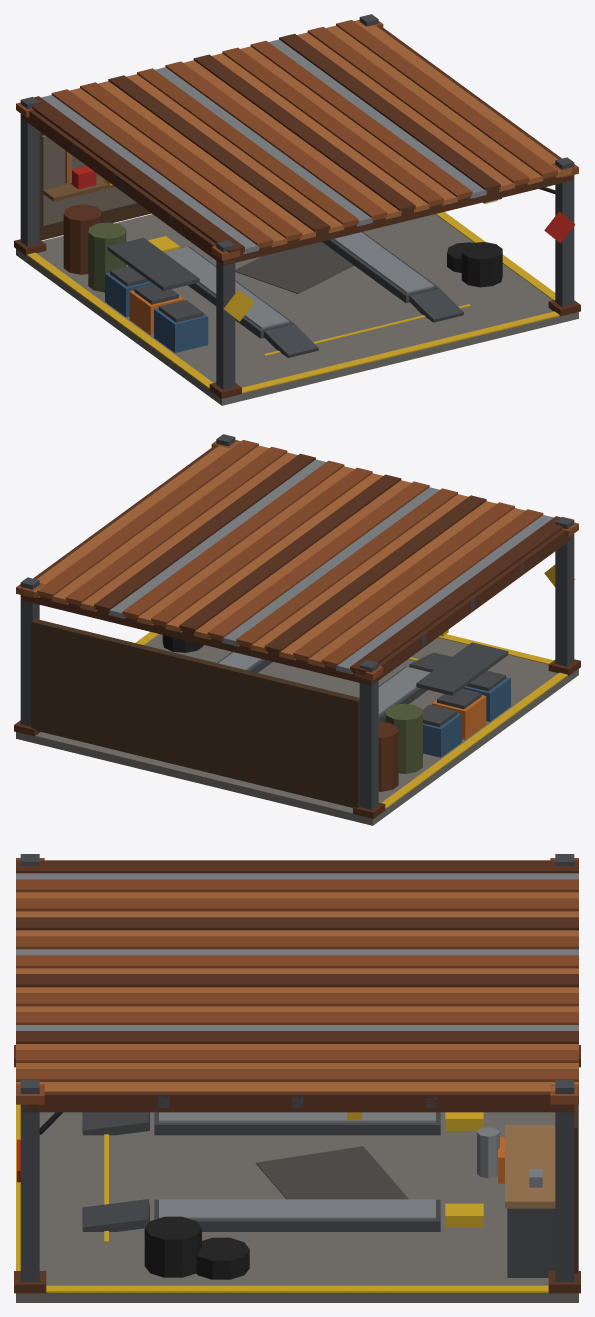
Rendered from piece_garage_bay.fbx.
3 views of the same model, one above another, from view 1: azimuth 30°, elevation 25°; view 2: azimuth 150°, elevation 25°; view 3: azimuth 270°, elevation 25° (orthographic). The views are drawn at different scales.
Parts seen in each view (by area): view 1: piece_garage_bay; view 2: piece_garage_bay; view 3: piece_garage_bay.
Part boxes in pixels (box(x1,y1,x2,y2)): piece_garage_bay: box(14, 14, 580, 405); piece_garage_bay: box(14, 434, 580, 825); piece_garage_bay: box(14, 854, 580, 1302).
Bounding box in the file's own units: 5.94 × 2.46 × 5.94.
